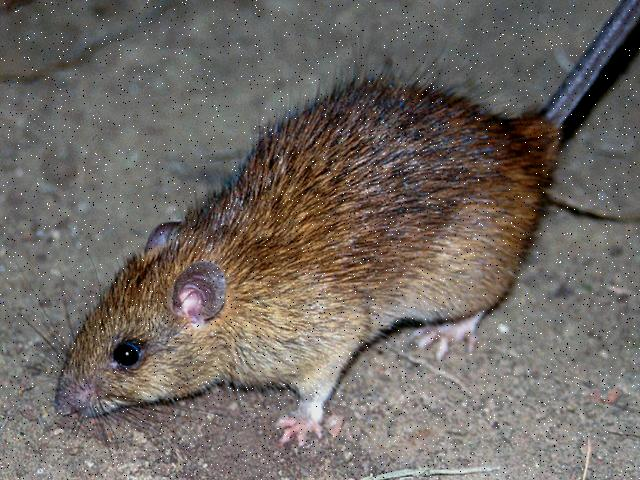Tikus: (52, 73, 560, 448)
